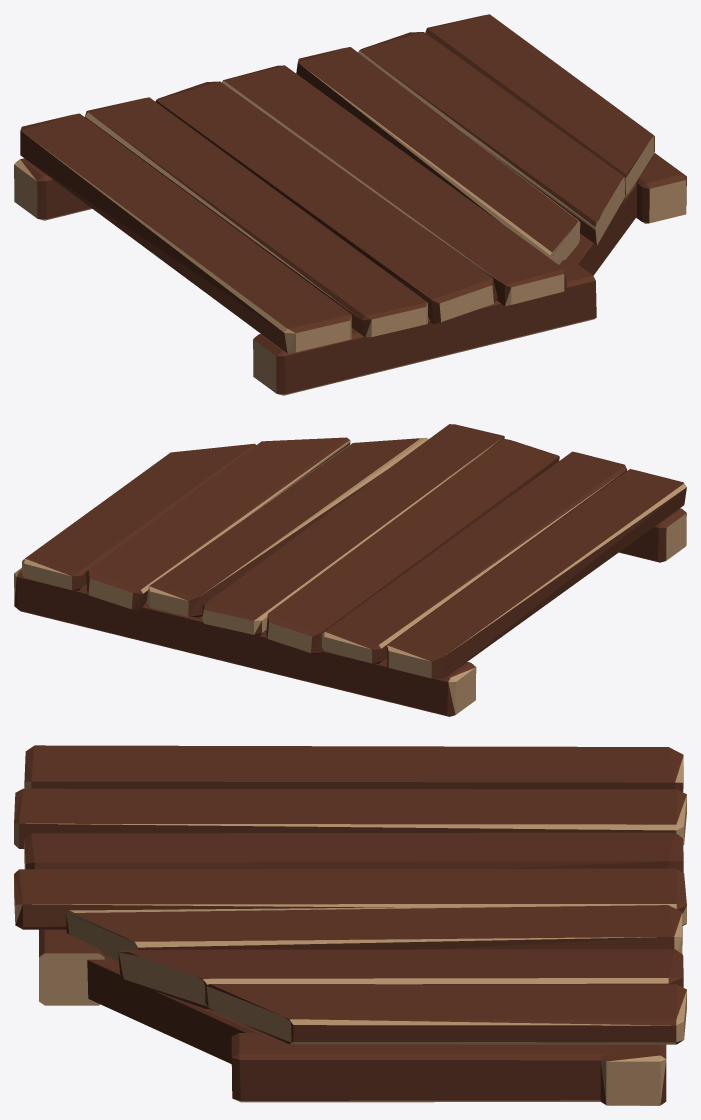
File: MCastle_LgtWoodFlr_02.FBX
The picture shows the model from 3 angles, top to bottom: view 1: azimuth 30°, elevation 25°; view 2: azimuth 150°, elevation 25°; view 3: azimuth 270°, elevation 25°; orthographic projection. The views are drawn at different scales.
Visible parts, largest first — view 1: MCastle_LgtWoodFlr_02_LOD0; view 2: MCastle_LgtWoodFlr_02_LOD0; view 3: MCastle_LgtWoodFlr_02_LOD0.
Part boxes in pixels (<box>): MCastle_LgtWoodFlr_02_LOD0: <box>14,14,686,395</box>; MCastle_LgtWoodFlr_02_LOD0: <box>14,424,686,716</box>; MCastle_LgtWoodFlr_02_LOD0: <box>14,745,686,1105</box>.
Size of what is drawn, in the model's own units: 164 by 22.1 by 162.
